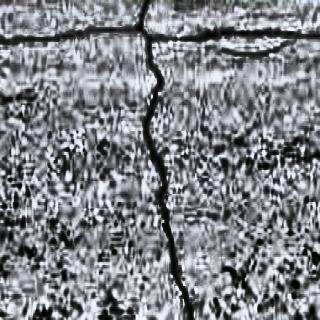crack: (141, 32, 197, 320), (0, 22, 320, 48), (136, 0, 150, 33)
